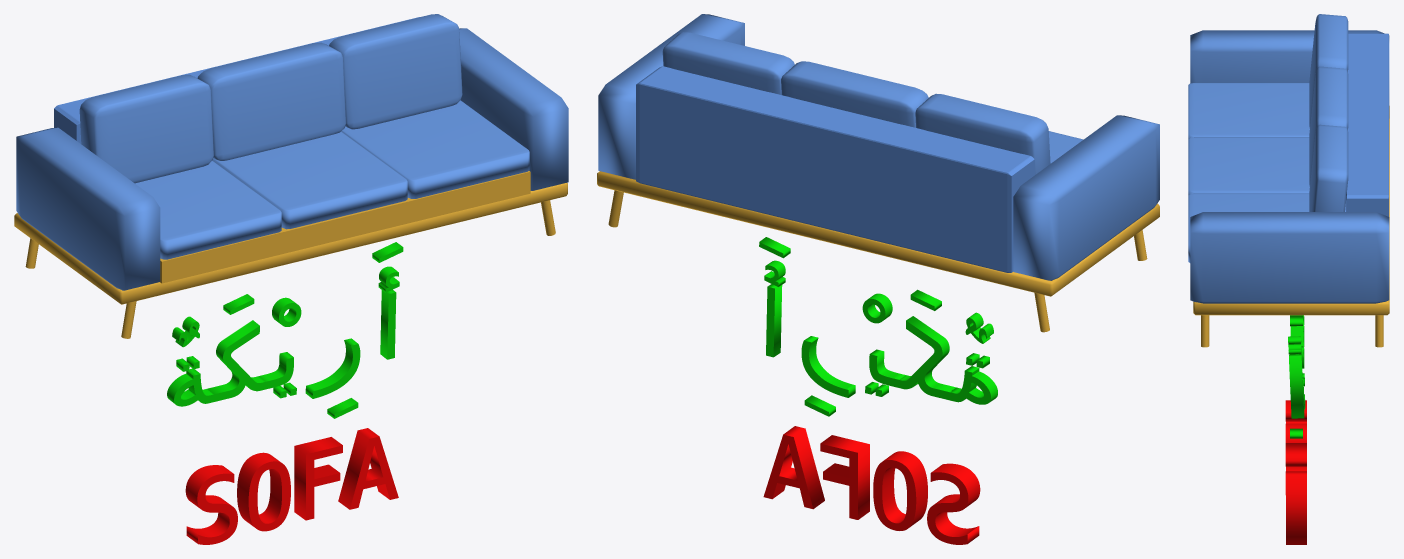
File: Koltuk.fbx
3 renders of one model, left to right at view 1: azimuth 30°, elevation 25°; view 2: azimuth 150°, elevation 25°; view 3: azimuth 270°, elevation 25°, orthographic. The views are drawn at different scales.
Visible parts, largest first — view 1: Cube.003, Cube, Cube.009, Cube.008, Cube.007, Teks.005, Cube.005, Cube.006, Cube.001, Cube.002, Text, Cube.004 (+2 smaller); view 2: Cube.004, Cube.003, Teks.005, Cube, Text, Cube.001, Cube.009, Cube.007, Cube.008, Cylinder, Teks.002; view 3: Cube.001, Cube.004, Cube.005, Cube.003, Cube.002, Cube.008, Teks.005, Cube, Cube.006, Cube.009, Cube.007, Text (+1 smaller).
Part boxes in pixels (left/top/right/bottom): Cube.003: left=16, top=127, right=160, bottom=290; Cube: left=14, top=171, right=567, bottom=304; Cube.009: left=197, top=42, right=345, bottom=160; Cube.008: left=329, top=14, right=462, bottom=129; Cube.007: left=79, top=74, right=213, bottom=183; Teks.005: left=185, top=428, right=398, bottom=544; Cube.005: left=212, top=131, right=407, bottom=229; Cube.006: left=341, top=100, right=529, bottom=198; Cube.001: left=459, top=28, right=568, bottom=190; Cube.002: left=135, top=160, right=281, bottom=259; Text: left=167, top=266, right=399, bottom=406; Cube.004: left=54, top=17, right=419, bottom=143; Cube.004: left=636, top=66, right=1034, bottom=272; Cube.003: left=1013, top=115, right=1159, bottom=280; Teks.005: left=763, top=426, right=980, bottom=544; Cube: left=597, top=171, right=1159, bottom=296; Text: left=764, top=260, right=997, bottom=404; Cube.001: left=598, top=14, right=744, bottom=179; Cube.009: left=781, top=61, right=928, bottom=127; Cube.007: left=915, top=93, right=1050, bottom=174; Cube.008: left=662, top=32, right=794, bottom=94; Cylinder: left=1034, top=230, right=1147, bottom=332; Teks.002: left=862, top=293, right=892, bottom=323; Cube.001: left=1190, top=212, right=1389, bottom=303; Cube.004: left=1346, top=33, right=1388, bottom=216; Cube.005: left=1188, top=137, right=1309, bottom=194; Cube.003: left=1190, top=30, right=1389, bottom=118; Cube.002: left=1188, top=83, right=1309, bottom=138; Cube.008: left=1309, top=124, right=1348, bottom=211; Teks.005: left=1285, top=400, right=1306, bottom=544; Cube: left=1193, top=106, right=1389, bottom=315; Cube.006: left=1188, top=193, right=1346, bottom=262; Cube.009: left=1309, top=66, right=1348, bottom=186; Cube.007: left=1309, top=14, right=1348, bottom=128; Text: left=1288, top=315, right=1305, bottom=418.
Bounding box in the file's own units: 446 × 425 × 190.
